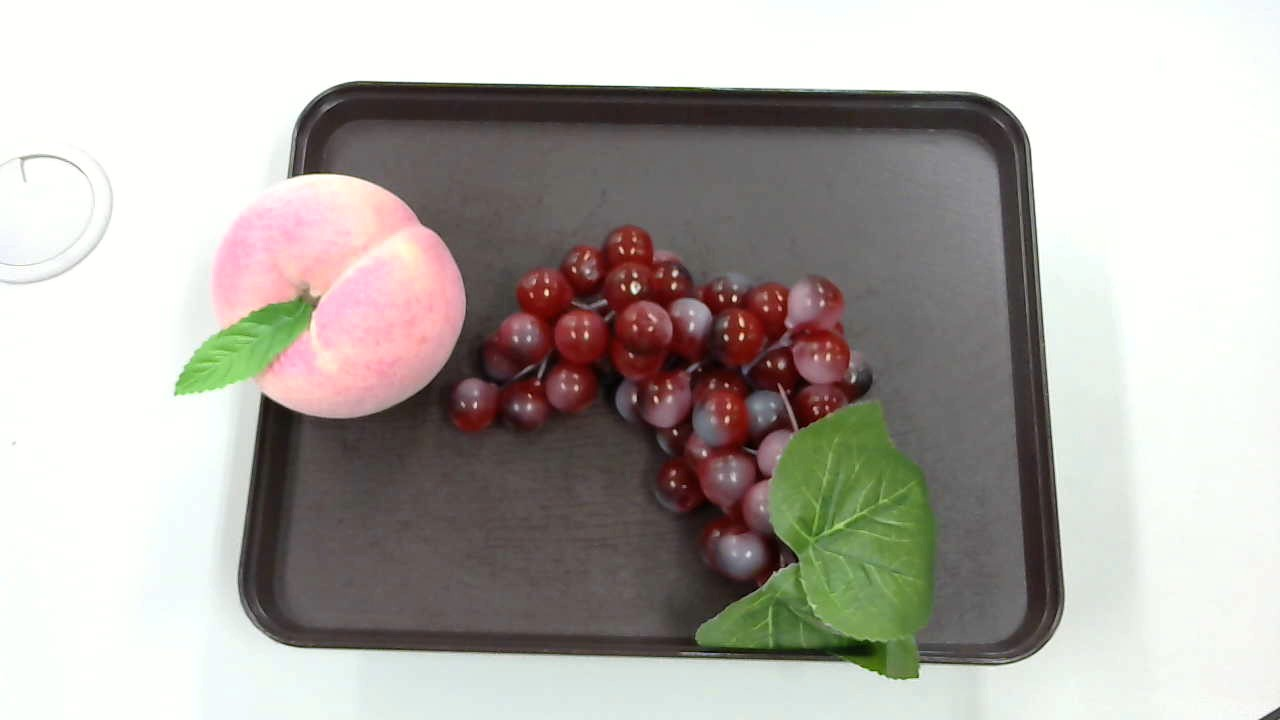grape: (446, 225, 932, 688)
peach: (173, 171, 464, 427)
